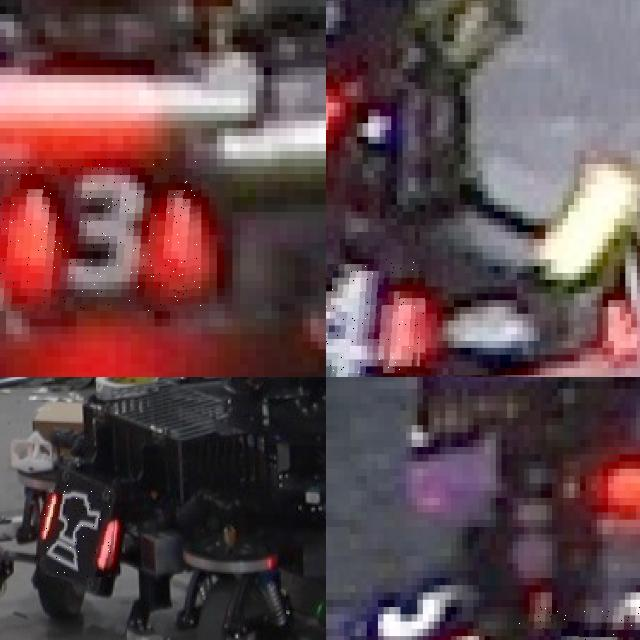R3: (0, 158, 201, 311)
R4: (326, 259, 425, 377)
R5: (361, 549, 490, 640)
Rs: (40, 483, 118, 578)
